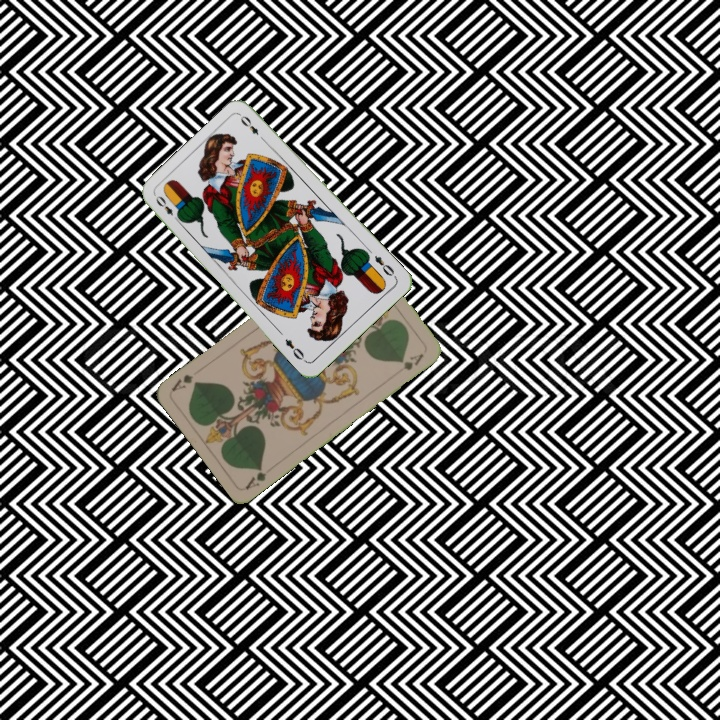EO: (151, 191, 183, 225), (370, 251, 399, 280)
GA: (241, 462, 269, 492)
